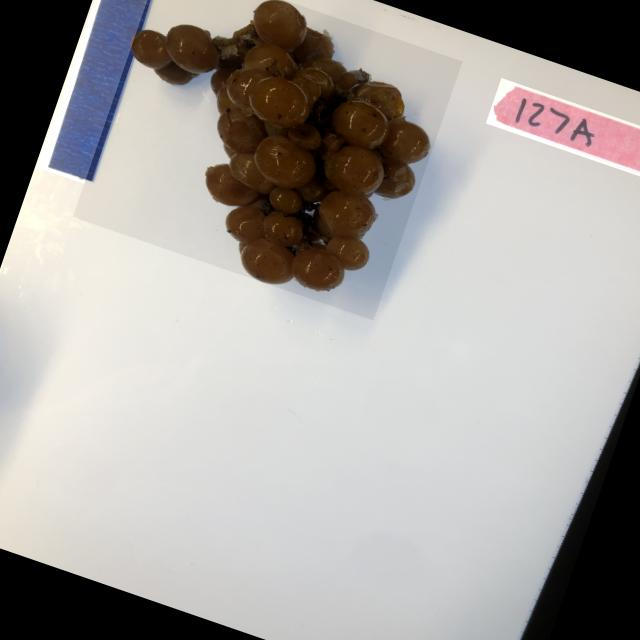grape_cluster: (72, 0, 462, 320)
index: (485, 77, 640, 191)
measure_label: (36, 0, 181, 189)
